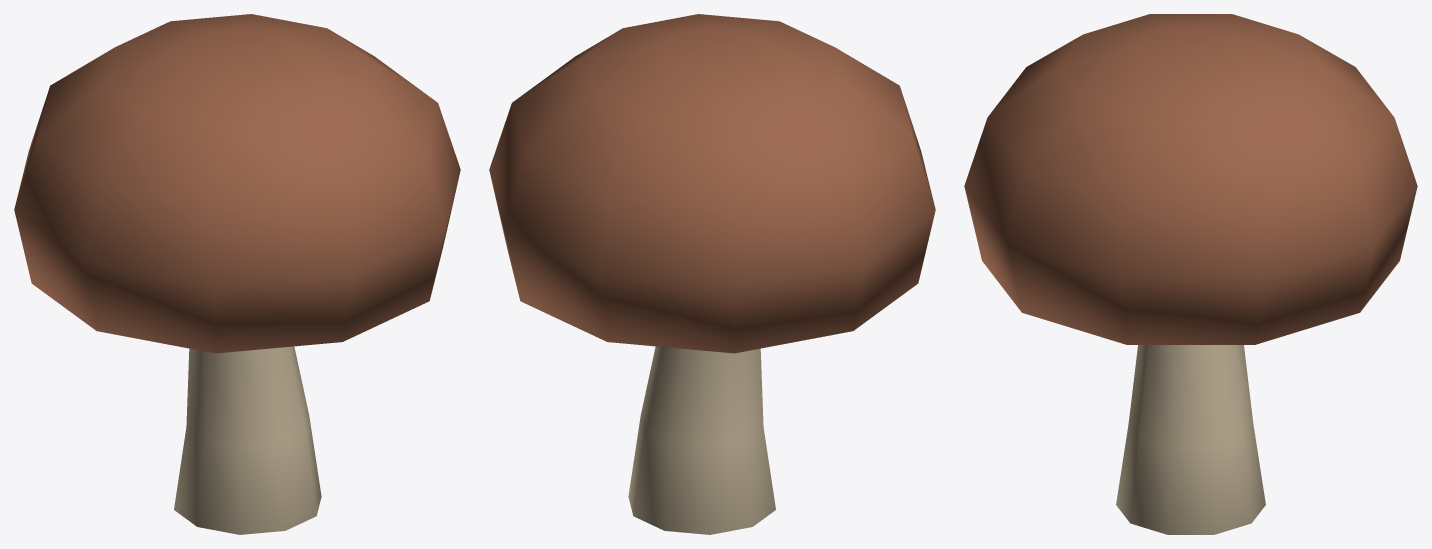
The model's file is Mushroom_LightBrown_1.fbx.
3 renders of one model, left to right at view 1: azimuth 30°, elevation 25°; view 2: azimuth 150°, elevation 25°; view 3: azimuth 270°, elevation 25°, orthographic.
Parts seen in each view (by area): view 1: Cylinder.285, Cylinder.286; view 2: Cylinder.285, Cylinder.286; view 3: Cylinder.285, Cylinder.286.
Boxes of the visible parts, box(x1,y1,x2,y2) form: Cylinder.285: box(14, 14, 460, 353); Cylinder.286: box(174, 346, 321, 534); Cylinder.285: box(489, 14, 935, 353); Cylinder.286: box(628, 346, 775, 534); Cylinder.285: box(964, 14, 1417, 344); Cylinder.286: box(1116, 345, 1265, 534).
Size of the model in its own units: 77.71 by 89.62 by 81.71.
